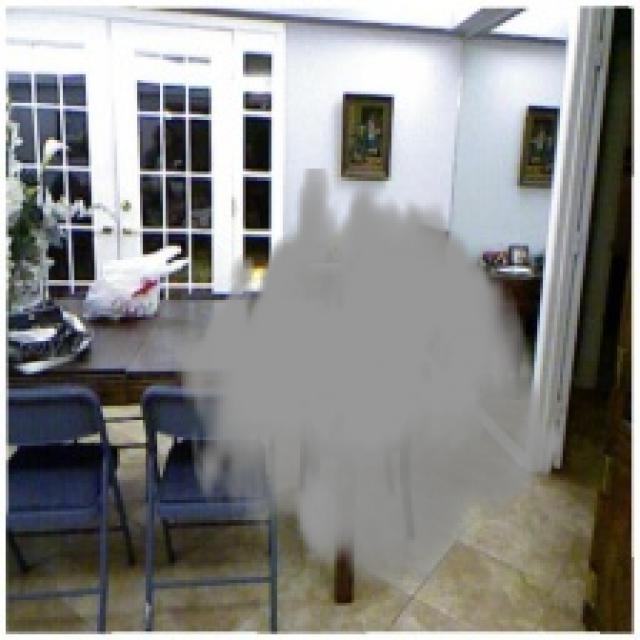smoke: (171, 169, 563, 594)
